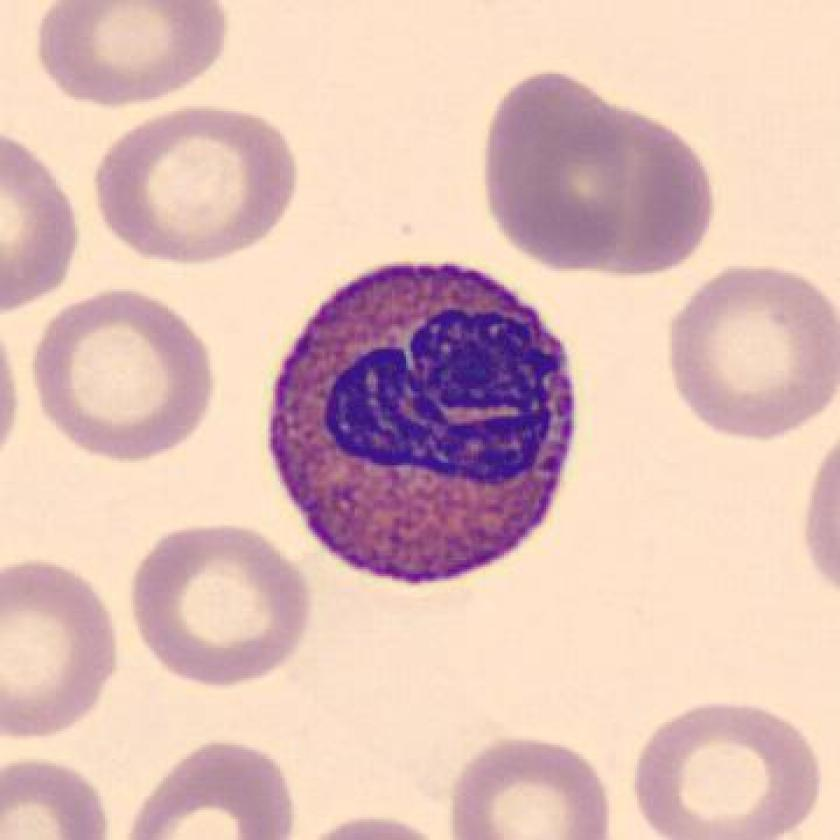eosinophil: (253, 246, 594, 598)
